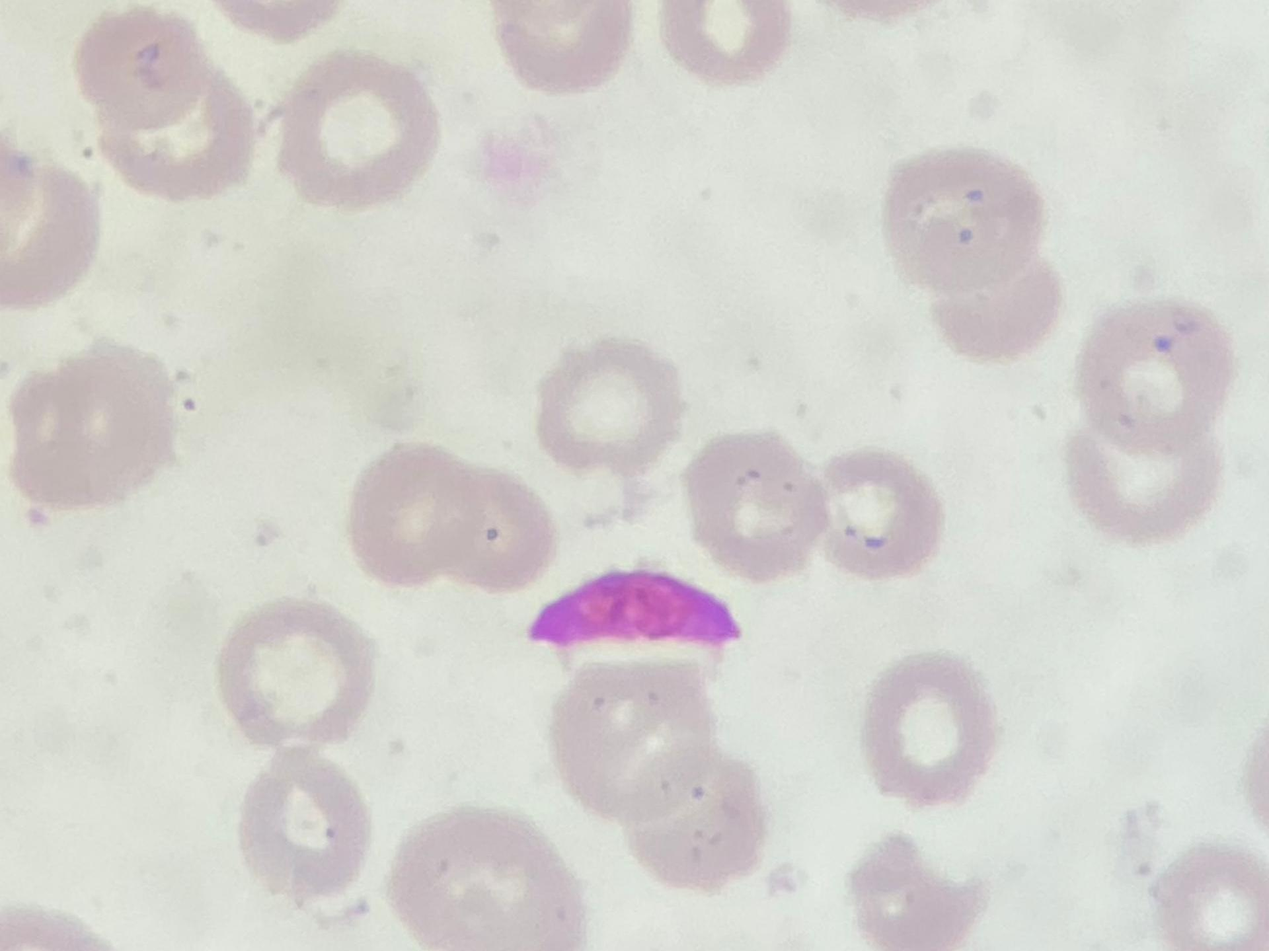Infected: (527, 567, 742, 655)
Uninfected: (7, 339, 179, 507), (390, 810, 586, 951), (547, 660, 712, 819), (281, 52, 440, 209), (213, 600, 373, 750), (886, 144, 1045, 293), (1077, 298, 1235, 446), (682, 428, 833, 582), (91, 68, 254, 199), (535, 341, 684, 481), (859, 653, 997, 803), (1064, 415, 1226, 542), (625, 742, 762, 888), (241, 749, 368, 906), (347, 445, 482, 592), (806, 448, 943, 577), (76, 2, 210, 131), (426, 468, 556, 592), (927, 250, 1058, 362), (491, 0, 634, 95), (659, 0, 795, 90), (728, 0, 932, 52)
